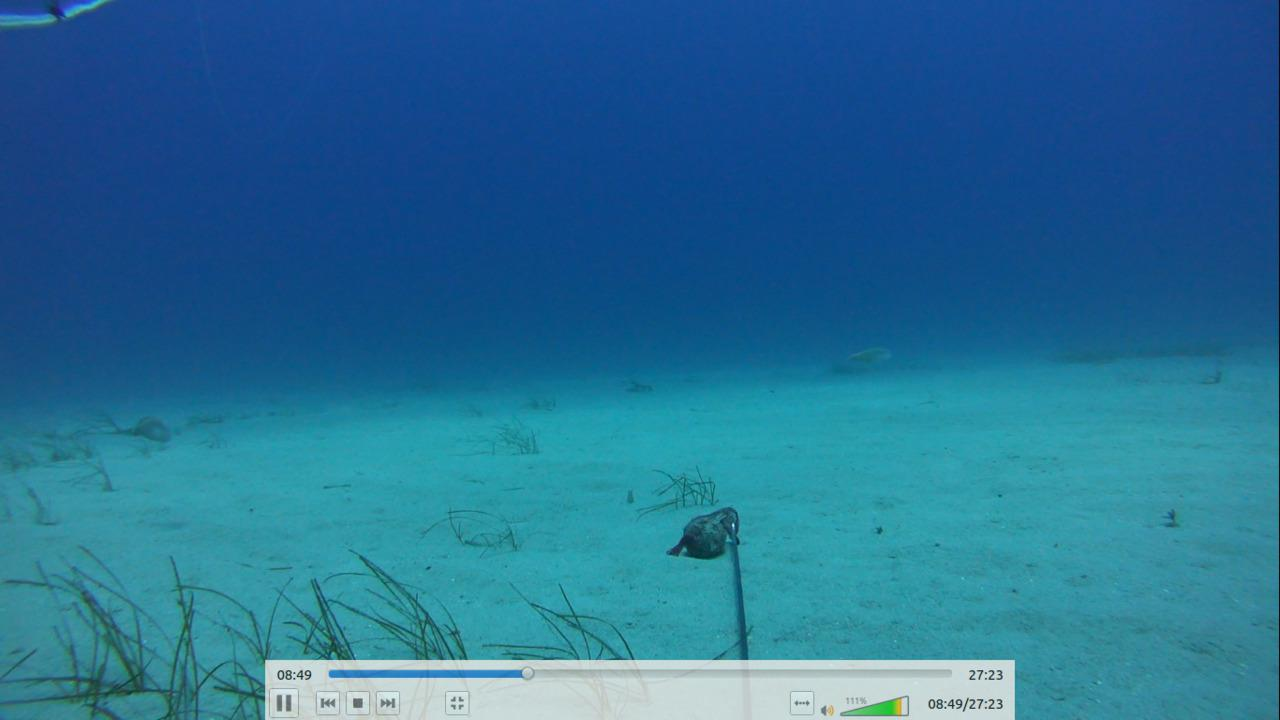raor: (836, 336, 902, 372)
